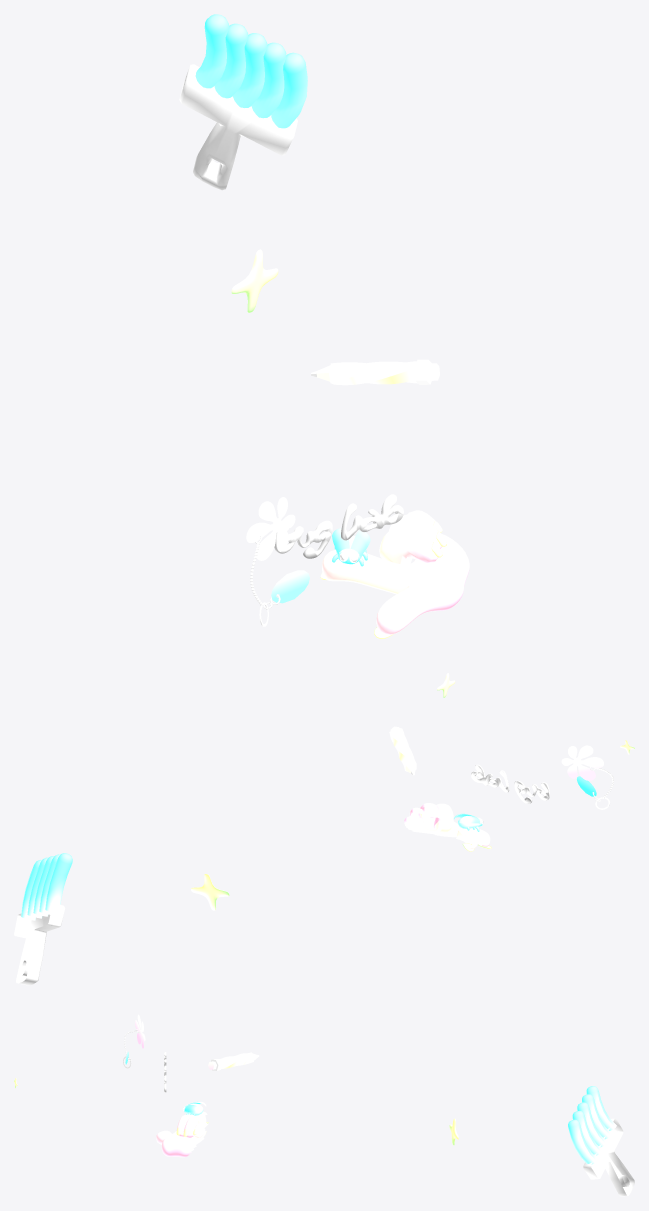
File: hero-scene.glb
3 views of the same model, one above another, from view 1: azimuth 30°, elevation 25°; view 2: azimuth 150°, elevation 25°; view 3: azimuth 270°, elevation 25° (orthographic). The views are drawn at different scales.
Visible parts, largest first — view 1: hand, brush-handle, pencil, bug-lab, Cylinder.001, finger-1.001, flower, Cylinder.002, Cylinder.005, Cylinder.004, Cylinder.003, star-2; view 2: brush-handle, bug-lab, hand, flower, Cylinder.002, pencil, star-2, finger-2.001, finger-1.001, Cylinder.001, Cylinder.005, Cylinder.004 (+1 smaller); view 3: brush-handle, hand, Cylinder.001, pencil, Cylinder.005, Cylinder.002, Cylinder.003, Cylinder.004.
Part boxes in pixels (left/top/right/bottom): hand: left=322, top=534, right=469, bottom=634; brush-handle: left=179, top=64, right=297, bottom=190; pencil: left=311, top=359, right=439, bottom=385; bug-lab: left=274, top=494, right=403, bottom=558; Cylinder.001: left=271, top=52, right=307, bottom=128; finger-1.001: left=379, top=525, right=437, bottom=564; flower: left=246, top=497, right=295, bottom=560; Cylinder.002: left=195, top=14, right=229, bottom=88; Cylinder.005: left=251, top=42, right=286, bottom=118; Cylinder.004: left=233, top=33, right=267, bottom=107; Cylinder.003: left=214, top=23, right=248, bottom=98; star-2: left=231, top=249, right=278, bottom=312; brush-handle: left=14, top=903, right=65, bottom=985; bug-lab: left=471, top=764, right=549, bottom=803; hand: left=404, top=816, right=490, bottom=849; flower: left=561, top=745, right=603, bottom=780; Cylinder.002: left=45, top=853, right=72, bottom=911; pencil: left=389, top=726, right=416, bottom=775; star-2: left=191, top=874, right=229, bottom=910; finger-2.001: left=418, top=803, right=439, bottom=832; finger-1.001: left=430, top=803, right=453, bottom=833; Cylinder.001: left=21, top=860, right=41, bottom=920; Cylinder.005: left=27, top=857, right=47, bottom=918; Cylinder.004: left=33, top=856, right=54, bottom=916; brush-handle: left=583, top=1118, right=634, bottom=1196; hand: left=156, top=1111, right=207, bottom=1157; Cylinder.001: left=568, top=1119, right=598, bottom=1164; pencil: left=208, top=1052, right=259, bottom=1070; Cylinder.005: left=572, top=1111, right=602, bottom=1155; Cylinder.002: left=586, top=1086, right=616, bottom=1130; Cylinder.003: left=582, top=1094, right=611, bottom=1139; Cylinder.004: left=577, top=1102, right=607, bottom=1147.
Bounding box in the file's own units: 1.75 × 0.7875 × 3.67.
